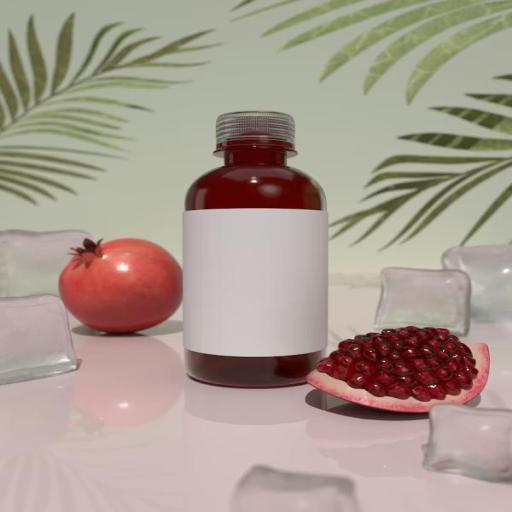bottle: (169, 104, 344, 392)
